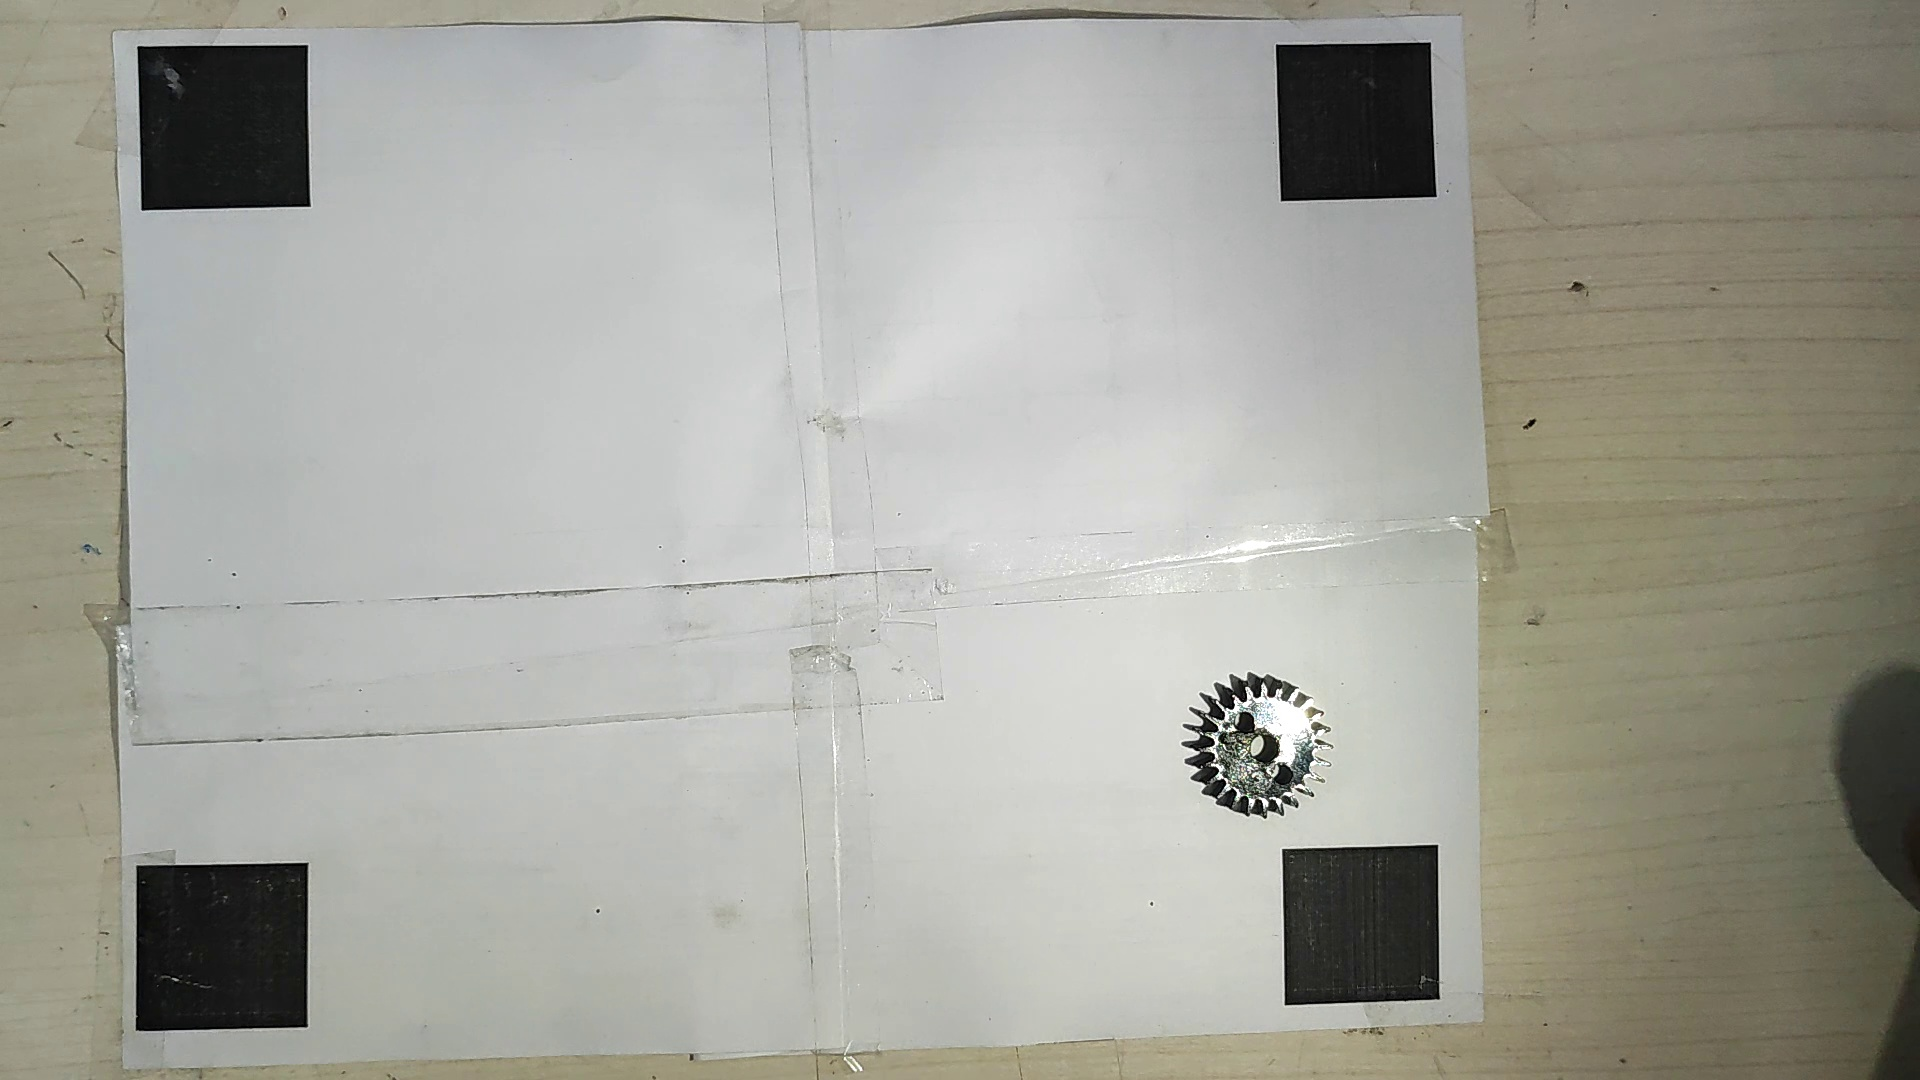Gear: (1178, 671, 1327, 820)
